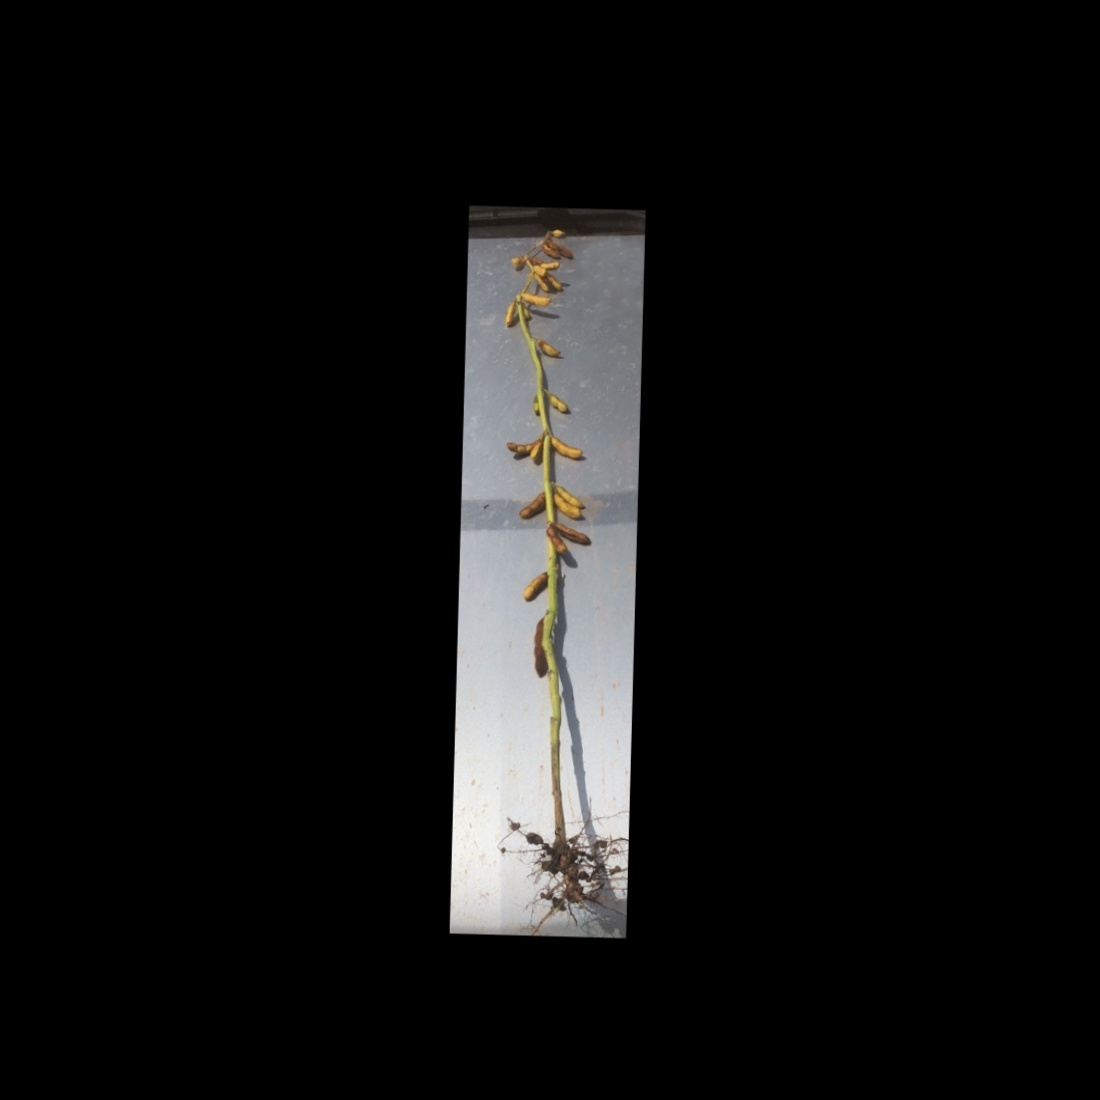pod: (553, 515, 598, 546), (530, 612, 551, 678), (516, 488, 549, 521), (547, 436, 585, 462), (523, 569, 551, 603), (541, 526, 568, 556), (521, 289, 554, 308), (545, 393, 572, 413), (535, 337, 563, 356), (502, 297, 517, 330), (506, 250, 528, 271), (539, 258, 563, 271), (550, 226, 569, 241), (531, 389, 540, 417)
soy: (463, 212, 634, 924)
